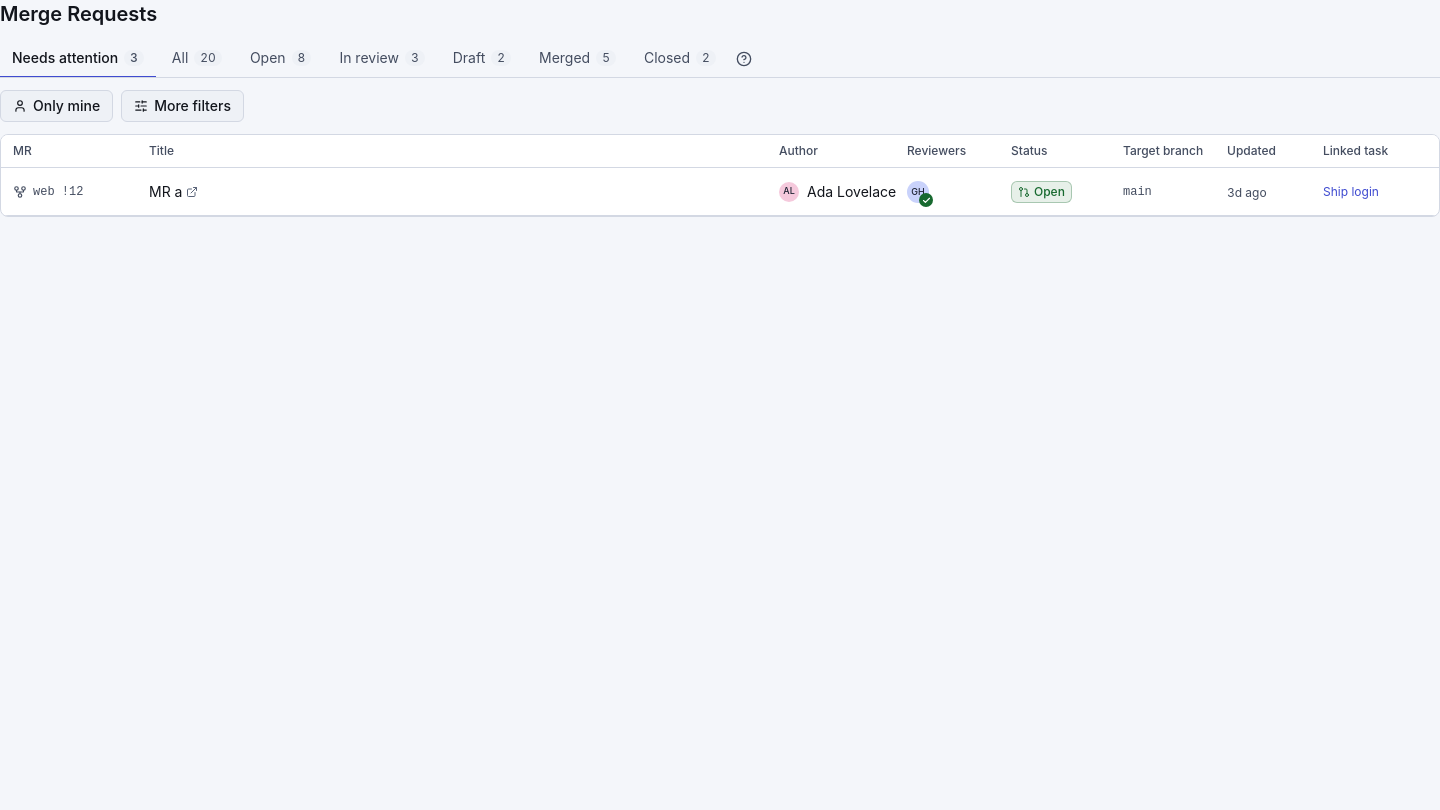
Test case: MergeRequestsPage › status tabs › explains every status behind the "?" button
The image size is (1440, 810).
Check: the text "MR a" is shown, box [149,182,182,202]
Click the button named "What do these tabs mean?".
click(744, 58)  # box [732,46,756,70]
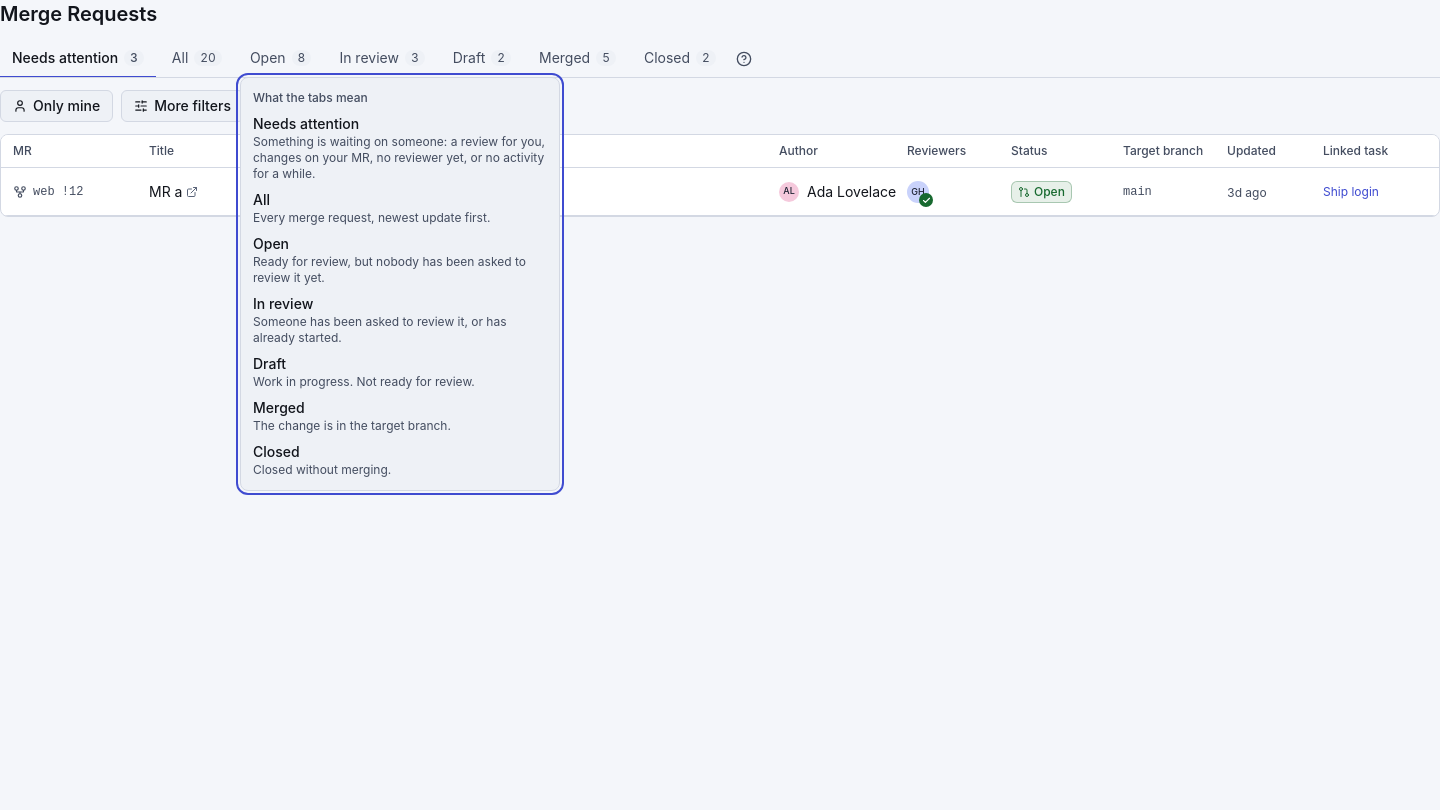
Check: the text "Closed without merging." is shown, box [253,462,391,477]
Check: the text "Work in progress. Not ready for review." is shown, box [253,374,475,389]
